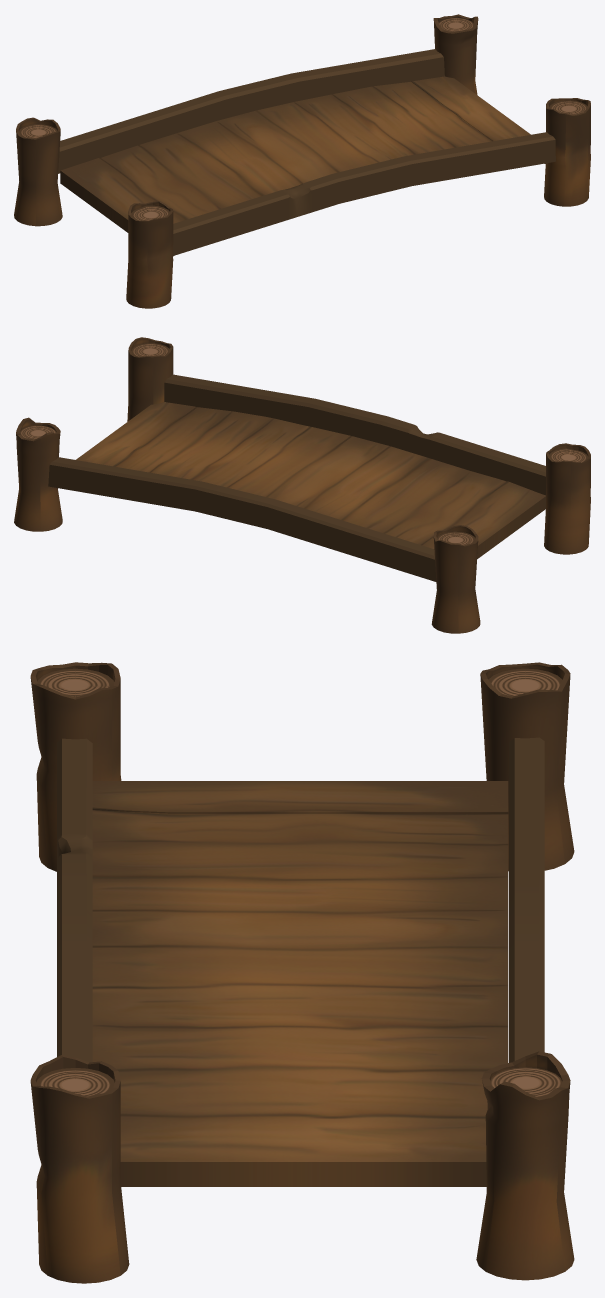
The model's file is bridge.fbx.
3 renders of one model, top to bottom at view 1: azimuth 30°, elevation 25°; view 2: azimuth 150°, elevation 25°; view 3: azimuth 270°, elevation 25°, orthographic. The views are drawn at different scales.
Parts seen in each view (by area): view 1: Bridge; view 2: Bridge; view 3: Bridge.
Part boxes in pixels (box(x1,y1,x2,y2)): Bridge: box(14, 14, 590, 308); Bridge: box(14, 337, 590, 633); Bridge: box(30, 662, 574, 1283).
Bounding box in the file's own units: 4.75 × 0.9659 × 2.43.
1 material, 1 textured.
